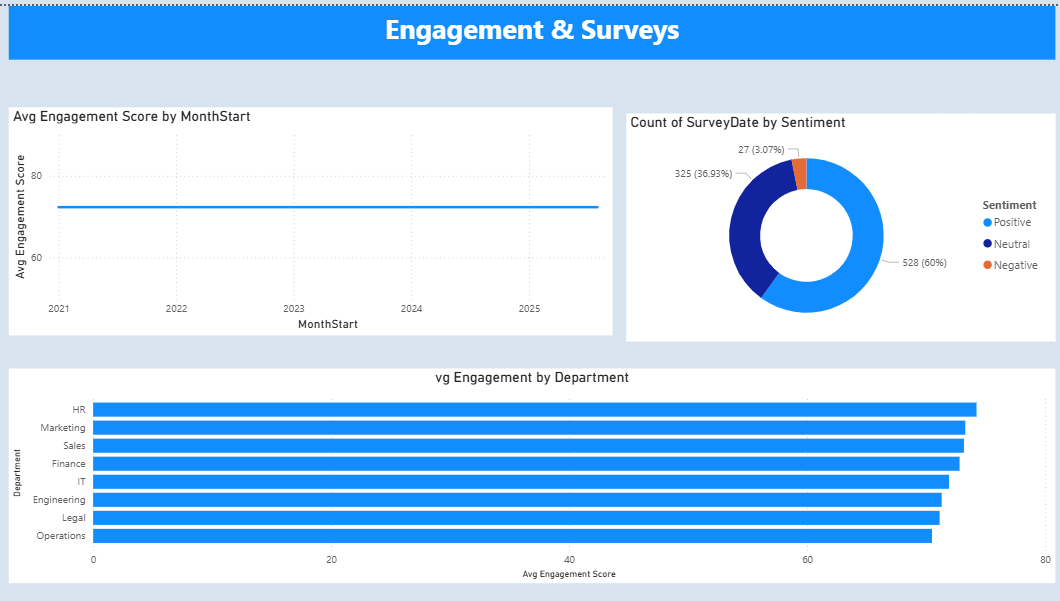

Layout of this report page (visuals, bound fields, positions):
{"tool":"powerbi","page":{"name":"Engagement & Surveys","canvas":[1280,720],"ordinal":4},"visuals":[{"type":"textbox","box":[16,0,1248,64],"z":0},{"type":"lineChart","fields":{"Y":["dim_employee.Avg Engagement Score"],"Category":["dim_month.MonthStart"]},"box":[16,120,720,272],"z":1000},{"type":"donutChart","fields":{"Category":["fact_surveys.Sentiment"],"Y":["CountNonNull(fact_surveys.SurveyDate)"]},"box":[752,128,512,272],"z":2000},{"type":"clusteredBarChart","title":"Avg Engagement by Department","fields":{"Category":["dim_employee.Department"],"Y":["dim_employee.Avg Engagement Score"]},"box":[16,432,1248,256],"z":3000}]}

Visuals, with their boxes in screenshot pixels (x1, y1, x2, y2), scaled from the page's 1280x720 canvas onto the 1060x601 screenshot:
textbox: [13, 0, 1047, 53]
lineChart - dim_employee.Avg Engagement Score x dim_month.MonthStart: [13, 100, 610, 327]
donutChart - fact_surveys.Sentiment x CountNonNull(fact_surveys.SurveyDate): [623, 107, 1047, 334]
"Avg Engagement by Department" clusteredBarChart: [13, 361, 1047, 574]
